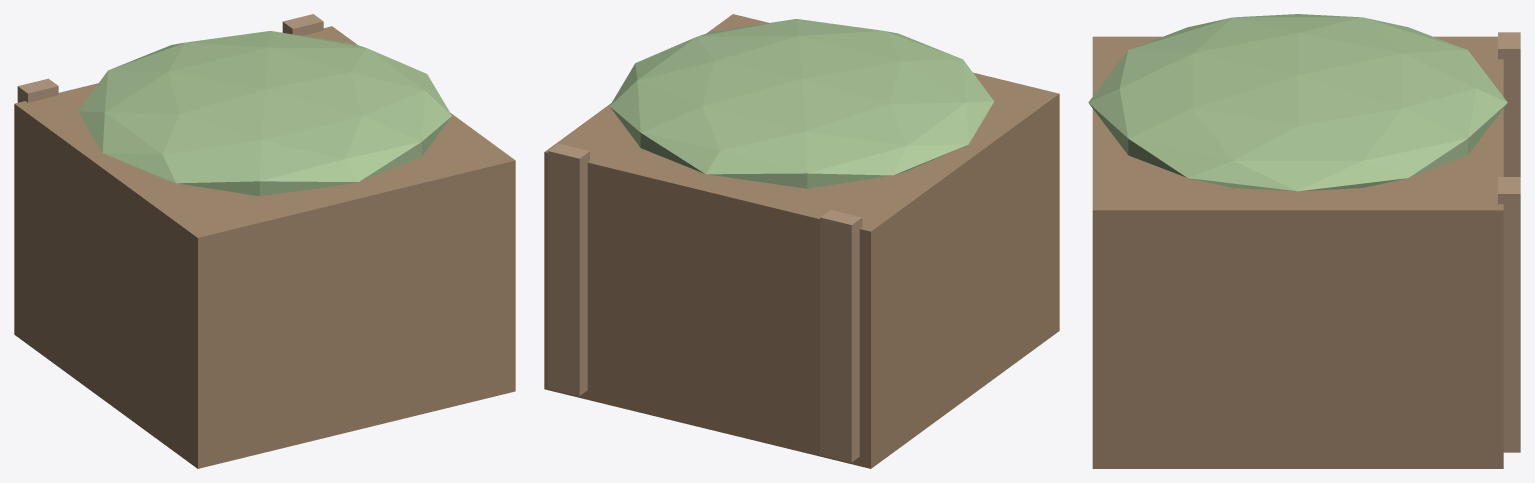
File: supply_cache.glb
The picture shows the model from 3 angles, left to right: view 1: azimuth 30°, elevation 25°; view 2: azimuth 150°, elevation 25°; view 3: azimuth 270°, elevation 25°; orthographic projection. The views are drawn at different scales.
Parts seen in each view (by area): view 1: Crate, LeafContents, Brace_-1, Brace_1; view 2: Crate, LeafContents, Brace_-1, Brace_1; view 3: Crate, LeafContents, Brace_1, Brace_-1.
Boxes of the visible parts, x1,y1,x2,y2 form: Crate: (14, 26, 515, 468); LeafContents: (78, 31, 451, 196); Brace_-1: (17, 78, 58, 102); Brace_1: (282, 14, 323, 35); Crate: (544, 14, 1059, 468); LeafContents: (609, 19, 994, 188); Brace_-1: (820, 209, 862, 462); Brace_1: (548, 143, 589, 395); Crate: (1092, 36, 1503, 468); LeafContents: (1088, 14, 1507, 191); Brace_1: (1498, 177, 1520, 452); Brace_-1: (1498, 32, 1520, 176).
Bounding box in the file's own units: 0.735 × 0.5925 × 0.7575.
